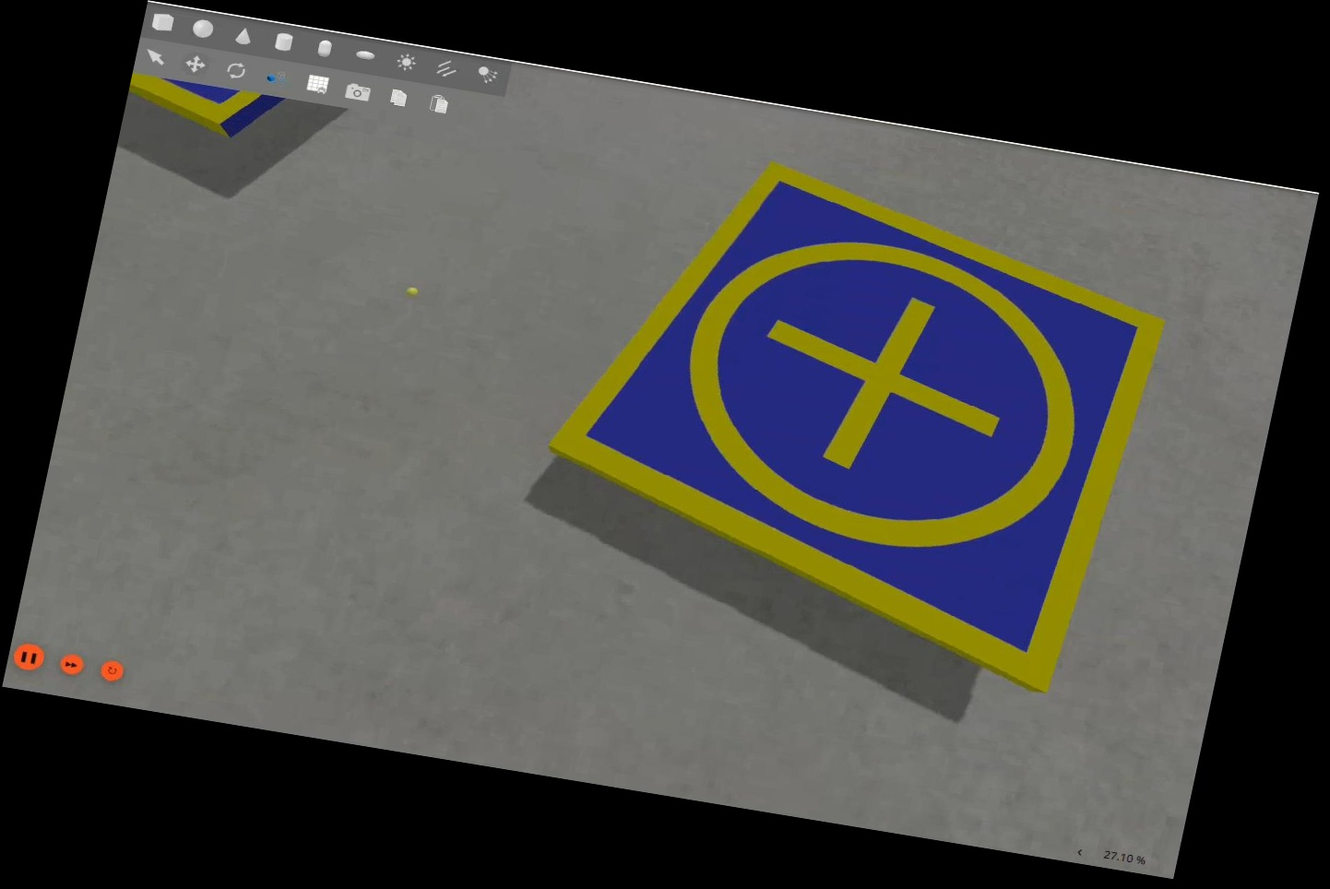small_base: (512, 133, 1190, 700)
